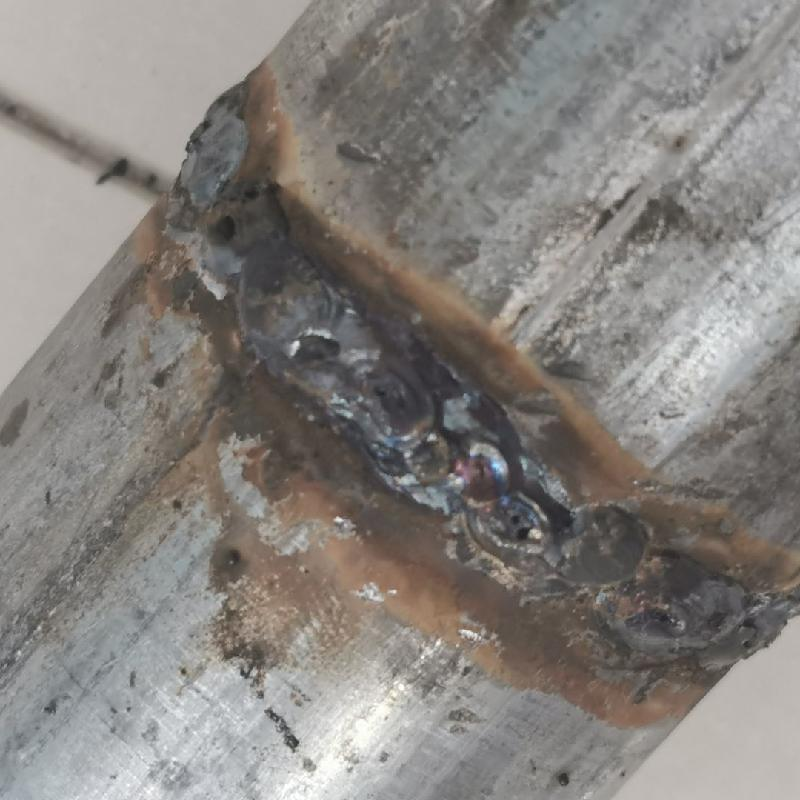Surface_pores: (185, 206, 258, 265), (488, 492, 548, 550)
crater: (283, 330, 549, 556), (560, 505, 773, 665)
wrong_size: (166, 99, 264, 192)
